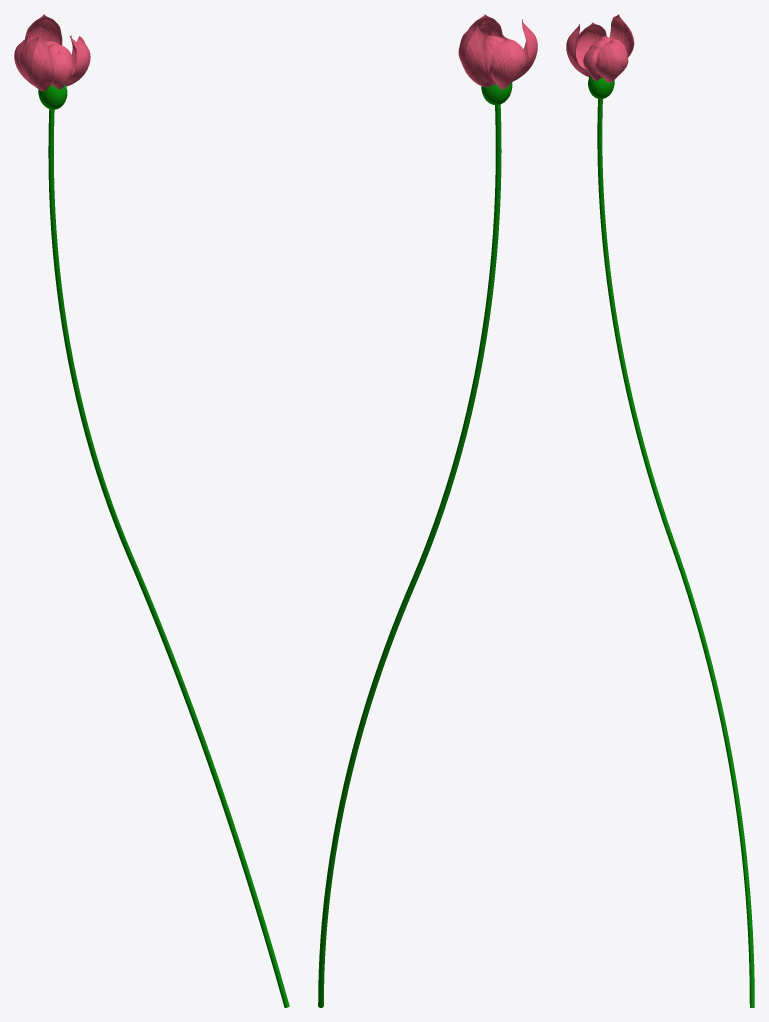
File: Lotus024.fbx
3 views of the same model, side by side, from view 1: azimuth 30°, elevation 25°; view 2: azimuth 150°, elevation 25°; view 3: azimuth 330°, elevation 25° (orthographic). The views are drawn at different scales.
Visible parts, largest first — view 1: pCylinder5, nurbsToPoly11, nurbsToPoly10; view 2: pCylinder5, nurbsToPoly10, nurbsToPoly12, nurbsToPoly11; view 3: pCylinder5, nurbsToPoly24, nurbsToPoly10, nurbsToPoly12, nurbsToPoly11.
Boxes of the visible parts, x1,y1,x2,y2 form: pCylinder5: (48,109,289,1007); nurbsToPoly11: (19,36,53,91); nurbsToPoly10: (25,14,62,45); pCylinder5: (318,104,501,1007); nurbsToPoly10: (458,25,492,87); nurbsToPoly12: (490,38,526,89); nurbsToPoly11: (512,19,537,81); pCylinder5: (597,99,754,1007); nurbsToPoly24: (595,40,628,82); nurbsToPoly10: (609,14,634,57); nurbsToPoly12: (576,22,606,57); nurbsToPoly11: (566,24,589,76).
Bounding box in the file's own units: 49.97 × 204 × 21.04.
